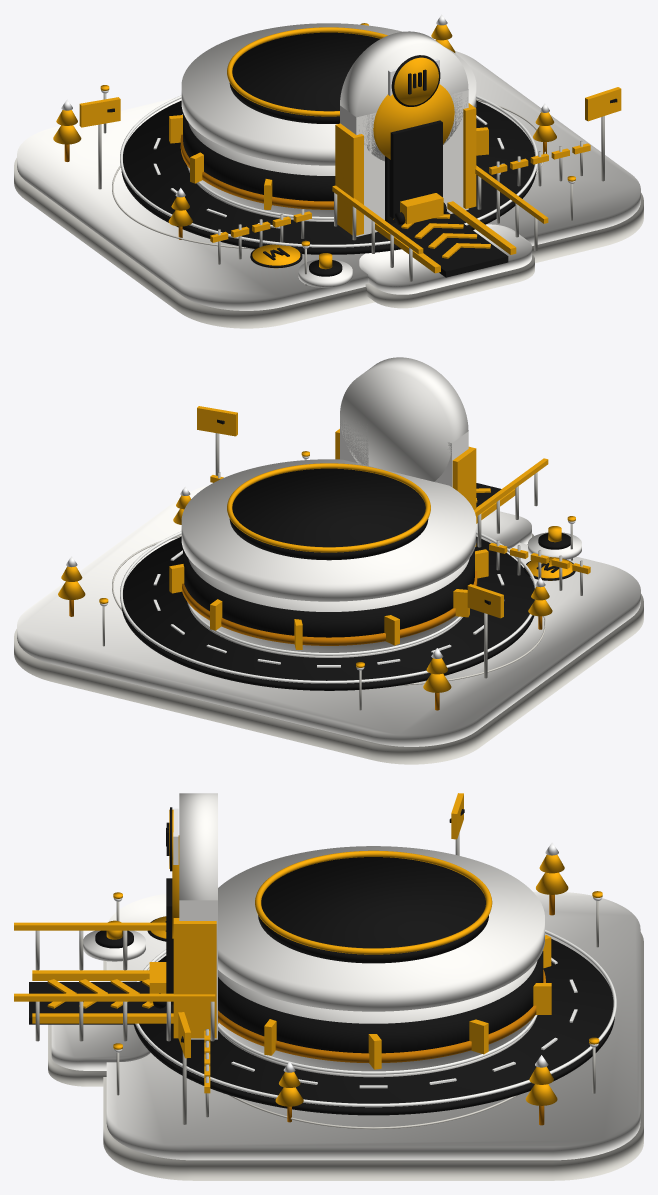
The model's file is zona_metro.glb.
3 views of the same model, one above another, from view 1: azimuth 30°, elevation 25°; view 2: azimuth 150°, elevation 25°; view 3: azimuth 270°, elevation 25° (orthographic). The views are drawn at different scales.
Parts seen in each view (by area): view 1: compact rounded metro platform top, black circular metro hub roadway, white upper metro cap, compact soft grey metro platform side, flat black metro hub roof disk, rounded top white metro gateway, small front metro access apron top, black gateway opening cover, black metro facade band, black entrance ramp to metro hub, yellow rounded gateway crown, yellow inner gateway left trim (+19 smaller); view 2: compact rounded metro platform top, black circular metro hub roadway, white upper metro cap, flat black metro hub roof disk, compact soft grey metro platform side, rounded top white metro gateway, black metro facade band, low circular white metro building body, thin yellow roof metro accent, yellow amber lower building ring, thin outer white road edge, small front metro access apron top (+10 smaller); view 3: compact rounded metro platform top, white upper metro cap, black circular metro hub roadway, flat black metro hub roof disk, compact soft grey metro platform side, black metro facade band, low circular white metro building body, yellow inner gateway right trim, rounded top white metro gateway, small front metro access apron top, thin yellow roof metro accent, yellow amber lower building ring (+17 smaller).
Part boxes in pixels (<box>): compact rounded metro platform top: <box>17,51,640,310</box>; black circular metro hub roadway: <box>121,100,536,254</box>; white upper metro cap: <box>181,23,476,165</box>; compact soft grey metro platform side: <box>14,158,643,328</box>; flat black metro hub roof disk: <box>229,32,379,123</box>; rounded top white metro gateway: <box>340,31,468,161</box>; small front metro access apron top: <box>359,224,531,294</box>; black gateway opening cover: <box>389,120,442,218</box>; black metro facade band: <box>183,113,335,201</box>; black entrance ramp to metro hub: <box>390,211,508,277</box>; yellow rounded gateway crown: <box>373,84,454,159</box>; yellow inner gateway left trim: <box>335,123,363,235</box>; compact rounded metro platform top: <box>17,485,640,746</box>; black circular metro hub roadway: <box>121,536,534,690</box>; white upper metro cap: <box>181,459,476,601</box>; flat black metro hub roof disk: <box>229,468,428,560</box>; compact soft grey metro platform side: <box>14,594,643,764</box>; rounded top white metro gateway: <box>340,357,468,481</box>; black metro facade band: <box>183,549,474,637</box>; low circular white metro building body: <box>188,558,469,652</box>; thin yellow roof metro accent: <box>227,463,430,552</box>; yellow amber lower building ring: <box>182,571,477,645</box>; thin outer white road edge: <box>120,531,536,683</box>; small front metro access apron top: <box>476,510,531,548</box>; compact rounded metro platform top: <box>106,891,640,1160</box>; white upper metro cap: <box>218,846,544,1011</box>; black circular metro hub roadway: <box>134,939,614,1115</box>; flat black metro hub roof disk: <box>258,857,488,963</box>; compact soft grey metro platform side: <box>103,932,643,1180</box>; black metro facade band: <box>218,951,543,1053</box>; low circular white metro building body: <box>218,961,537,1071</box>; yellow inner gateway right trim: <box>173,918,216,1038</box>; rounded top white metro gateway: <box>179,793,217,900</box>; small front metro access apron top: <box>51,981,150,1070</box>; thin yellow roof metro accent: <box>255,850,492,954</box>; yellow amber lower building ring: <box>218,969,545,1062</box>.
Bounding box in the file's own units: 3.49 × 1.61 × 3.6.
